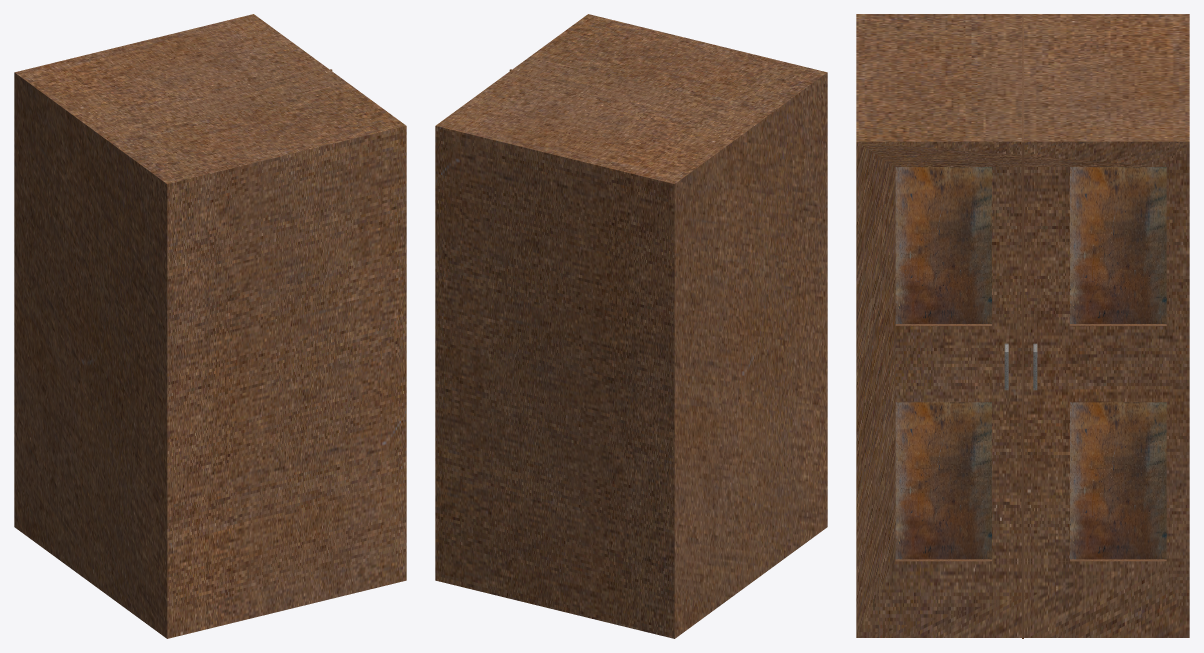
Rendered from PSX ALmira.fbx.
3 renders of one model, left to right at view 1: azimuth 30°, elevation 25°; view 2: azimuth 150°, elevation 25°; view 3: azimuth 270°, elevation 25°, orthographic. The views are drawn at different scales.
Parts seen in each view (by area): view 1: polySurface9; view 2: polySurface9; view 3: polySurface9.
Part boxes in pixels (x1,y1,x2,y2): polySurface9: (14, 14, 406, 638); polySurface9: (435, 14, 827, 638); polySurface9: (856, 14, 1189, 638).
Size of the model in its own units: 6.68 by 11.72 by 7.14.
3 materials, 3 textured.
